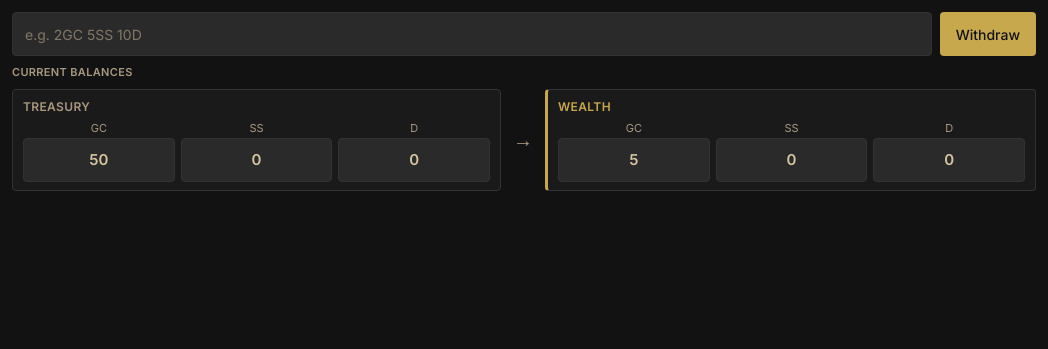
Test: TransferControl withdraw direction › uses withdraw test ids and labels; breakdown still current +/- transferred = result
This screenshot has width=1048, height=349.
expect the button "Withdraw" is shown: met, box [940,12,1036,56]
Type "10GC" into the field named "amount" at (472, 34), box [12,12,932,56]
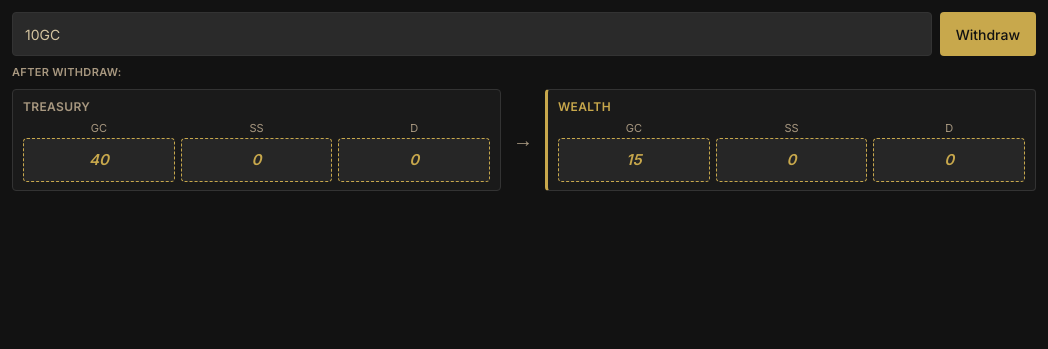
expect the button with test id "transfer-withdraw-source-gc" reads "40": met
expect the button with test id "transfer-withdraw-destination-gc" reads "15": met, box [558,138,710,182]
Click the button with test id "transfer-withdraw-source-gc" at (99, 160), box [23,138,175,182]
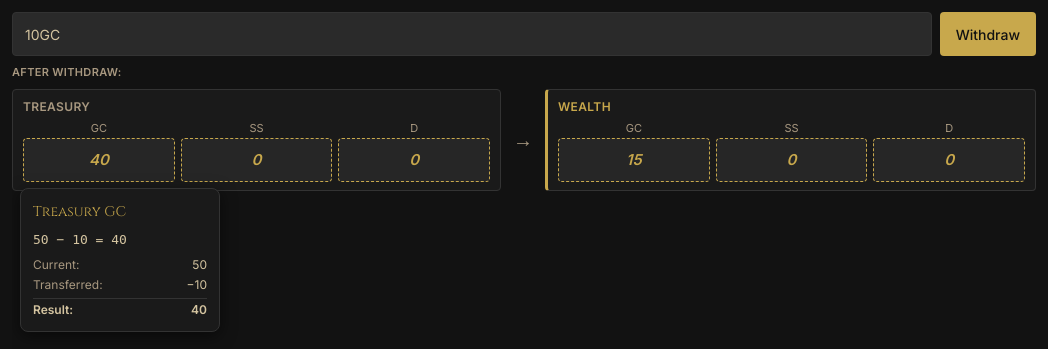
expect the tooltip shows "50 − 10 = 40": met, box [20,188,220,332]
